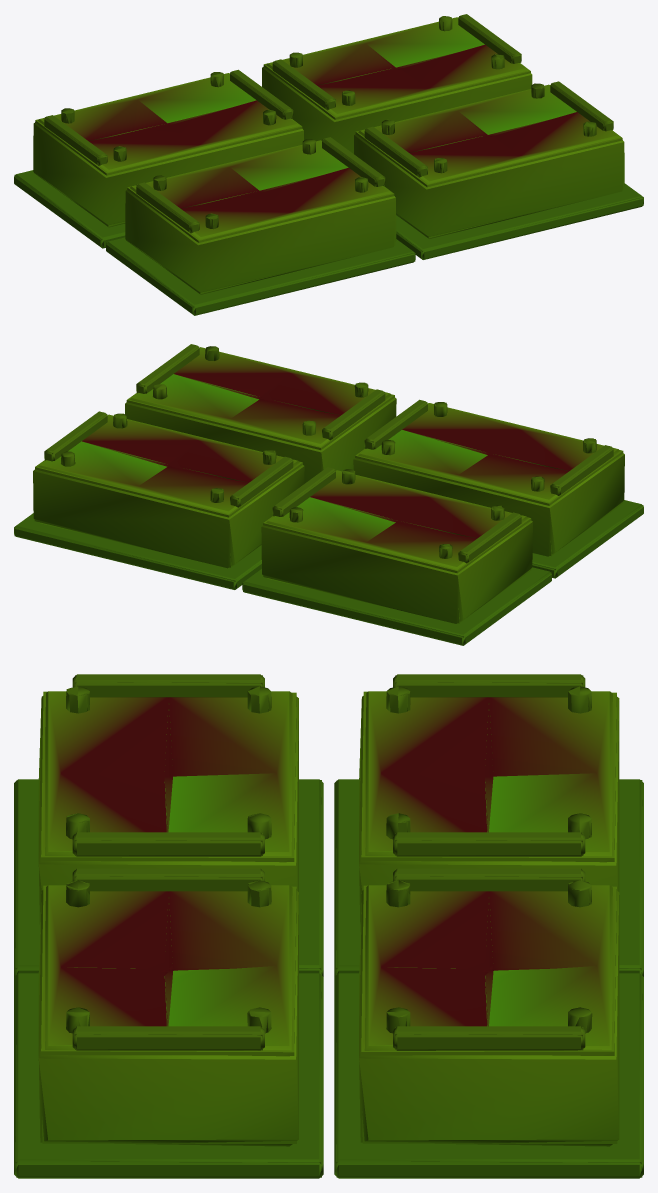
Rendered from RCLModule_scout_tank_gunmetal_chassis_era_LODs.fbx.
The picture shows the model from 3 angles, top to bottom: view 1: azimuth 30°, elevation 25°; view 2: azimuth 150°, elevation 25°; view 3: azimuth 270°, elevation 25°; orthographic projection. The views are drawn at different scales.
Parts seen in each view (by area): view 1: LOD1_RCLModule_scout_tank_gunmetal_chassis_era_Batch_RCLModu (×2), LOD2_RCLModule_scout_tank_gunmetal_chassis_era_Batch_RCLModu (×2); view 2: LOD1_RCLModule_scout_tank_gunmetal_chassis_era_Batch_RCLModu (×2), LOD2_RCLModule_scout_tank_gunmetal_chassis_era_Batch_RCLModu (×2); view 3: LOD1_RCLModule_scout_tank_gunmetal_chassis_era_Batch_RCLModu (×2), LOD2_RCLModule_scout_tank_gunmetal_chassis_era_Batch_RCLModu (×2).
Part boxes in pixels (bbox=[...]): LOD1_RCLModule_scout_tank_gunmetal_chassis_era_Batch_RCLModu (×2): bbox=[14, 14, 643, 315]; LOD2_RCLModule_scout_tank_gunmetal_chassis_era_Batch_RCLModu (×2): bbox=[14, 16, 643, 315]; LOD1_RCLModule_scout_tank_gunmetal_chassis_era_Batch_RCLModu (×2): bbox=[14, 344, 643, 645]; LOD2_RCLModule_scout_tank_gunmetal_chassis_era_Batch_RCLModu (×2): bbox=[14, 346, 643, 645]; LOD1_RCLModule_scout_tank_gunmetal_chassis_era_Batch_RCLModu (×2): bbox=[14, 674, 643, 1178]; LOD2_RCLModule_scout_tank_gunmetal_chassis_era_Batch_RCLModu (×2): bbox=[15, 675, 642, 1177].
Size of the model in its own units: 42.5 by 7.1 by 29.5.
